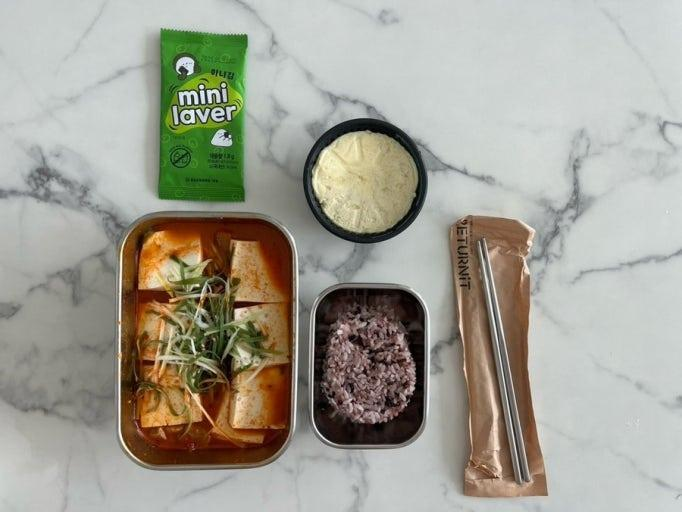Lunch Box: (116, 212, 297, 468), (310, 284, 428, 447), (303, 119, 426, 242)
